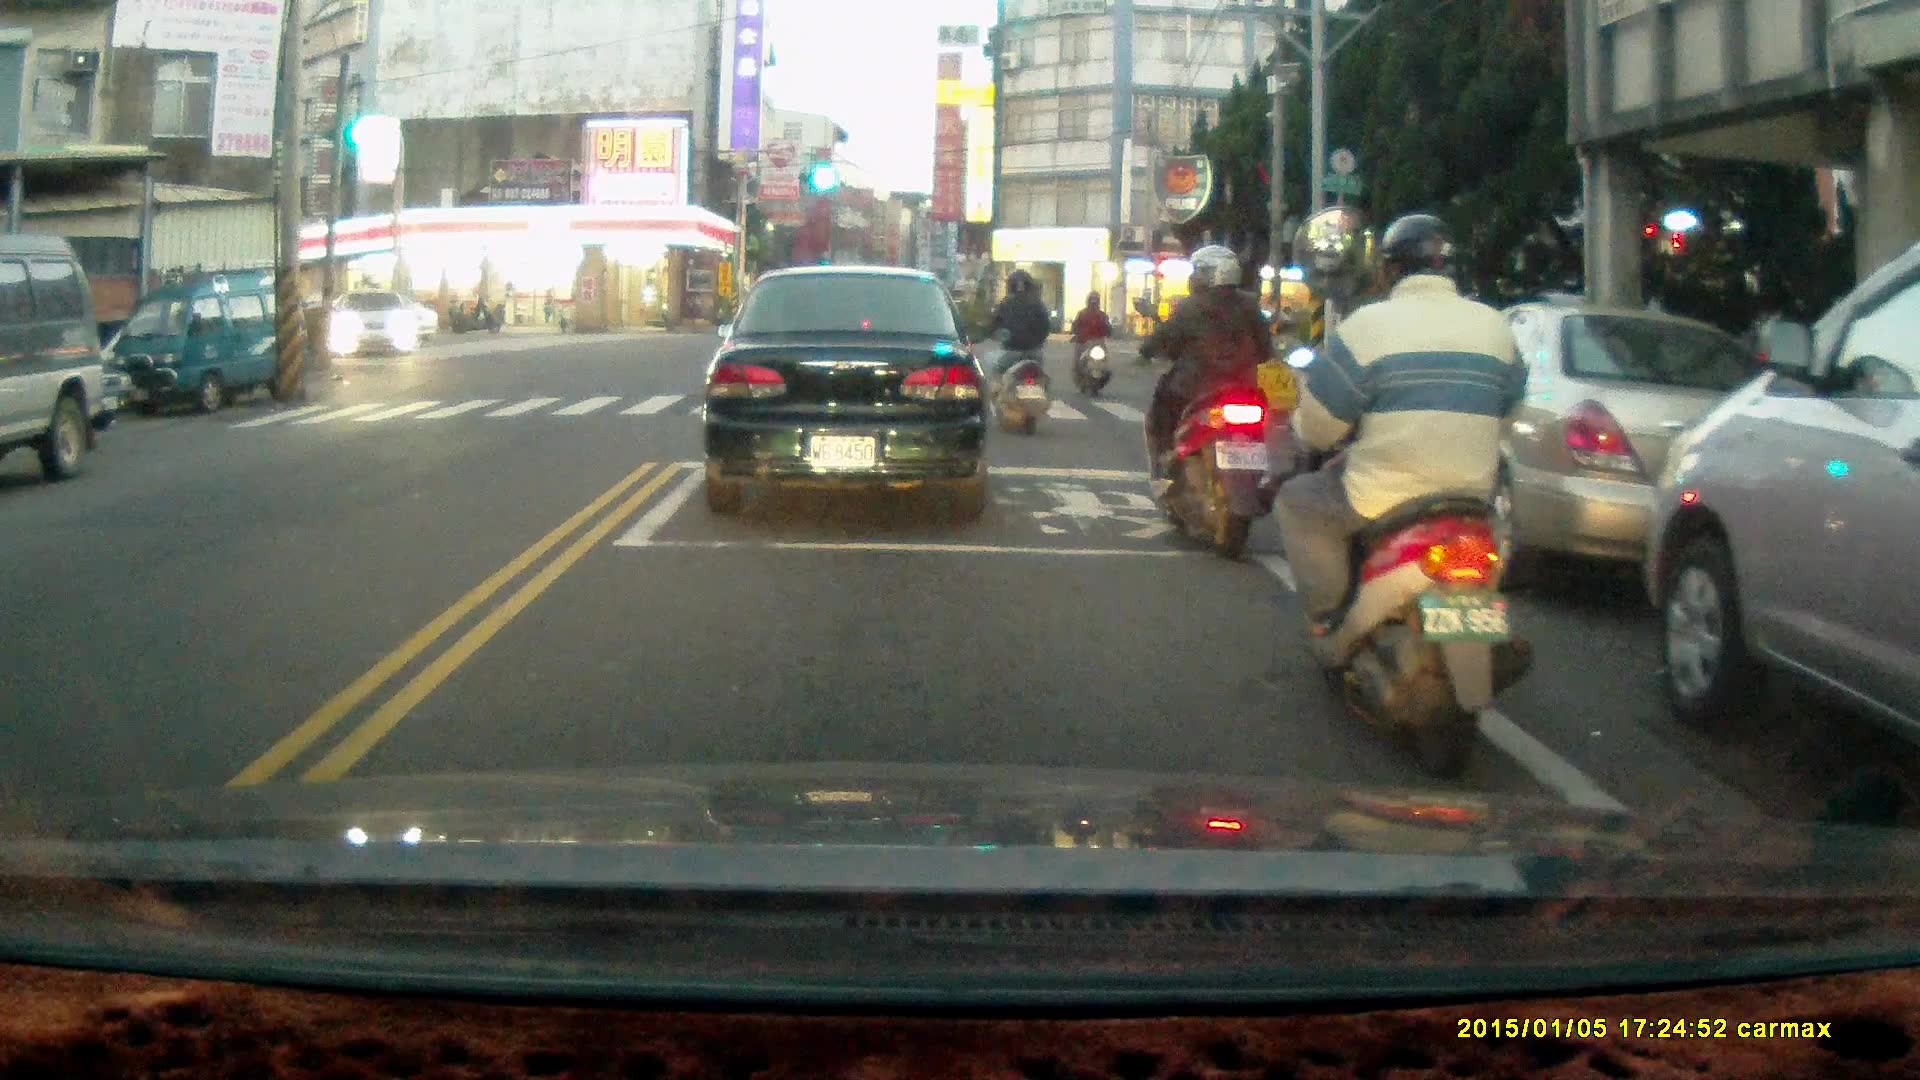rider: (1274, 215, 1536, 778), (1133, 243, 1292, 566), (984, 268, 1049, 437), (1072, 288, 1113, 400)
vehicle: (1640, 238, 1920, 749), (1400, 306, 1819, 602), (698, 262, 991, 523), (1, 234, 114, 484), (109, 263, 291, 415), (327, 290, 420, 362)
